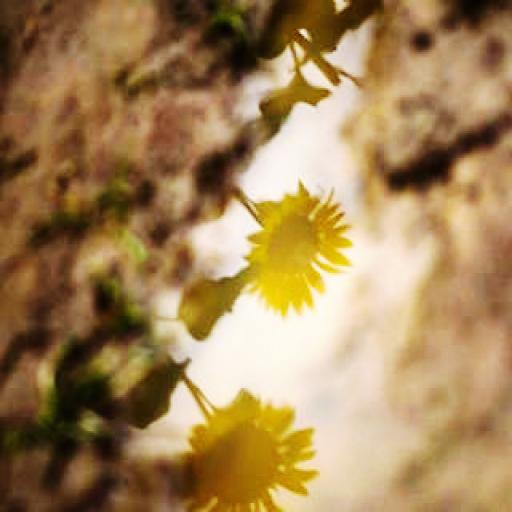sunflower: (192, 379, 317, 512), (242, 178, 355, 320)
